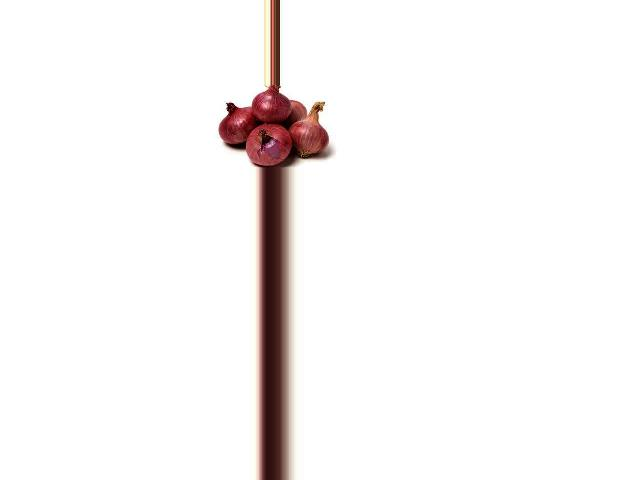onion: (245, 123, 301, 167)
